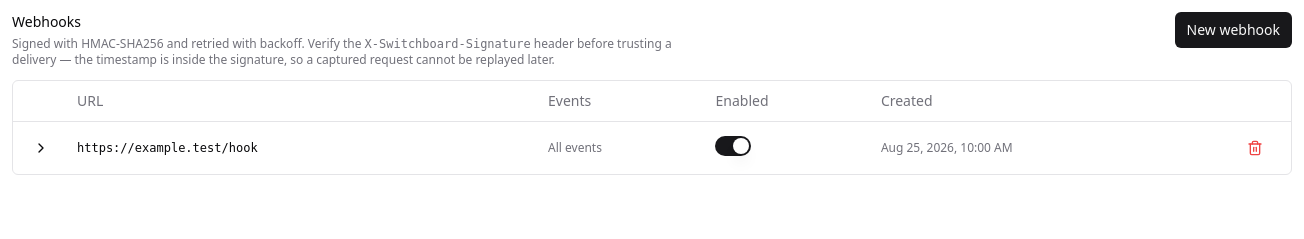
Test: WebhooksTab › loads deliveries only when a row is expanded
Expected: the row with test id "webhook-wh-1" is shown, [13,121,1291,174]
Click the button with test id "expand-wh-1": (41, 148) [21,130,61,166]
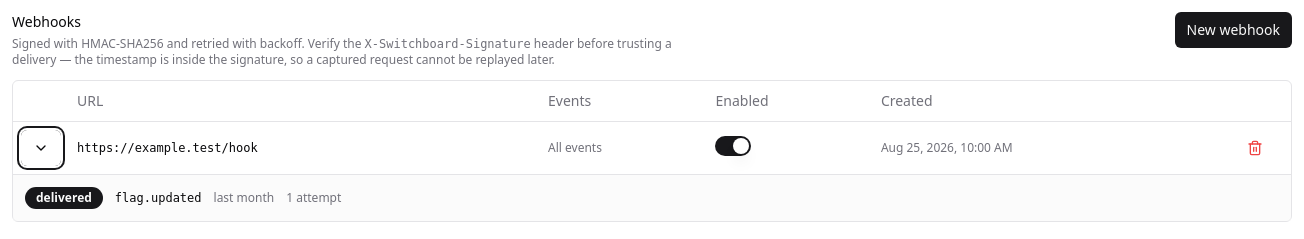
Expected: the element with test id "deliveries" is shown, [25,186,341,208]
